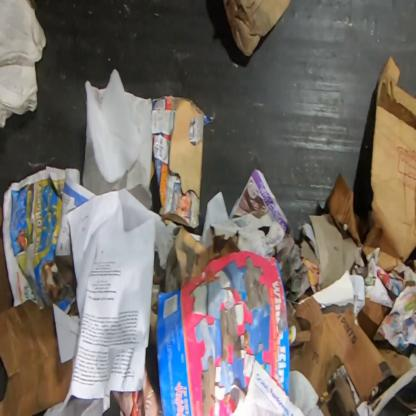cardboard: (326, 54, 415, 272), (0, 206, 74, 415), (152, 95, 216, 229), (223, 0, 292, 57), (373, 284, 415, 352)
